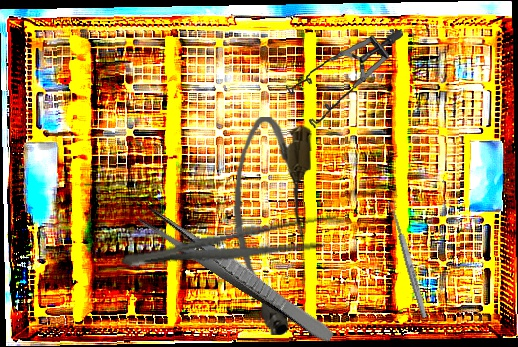Cannula: (225, 115, 314, 337)
Dressing Forceps: (135, 202, 340, 346), (119, 210, 341, 281)
Speculum: (282, 29, 410, 131)
Surgical Spoon: (387, 199, 429, 319)
